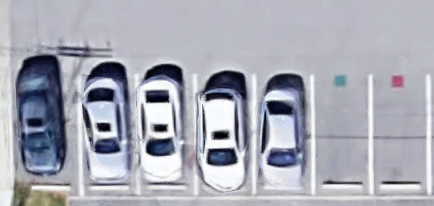Occupied: (11, 74, 81, 188), (136, 76, 197, 188), (195, 75, 255, 187), (254, 74, 313, 186), (80, 75, 137, 187)
Vacant: (311, 75, 372, 185), (370, 76, 430, 186)
